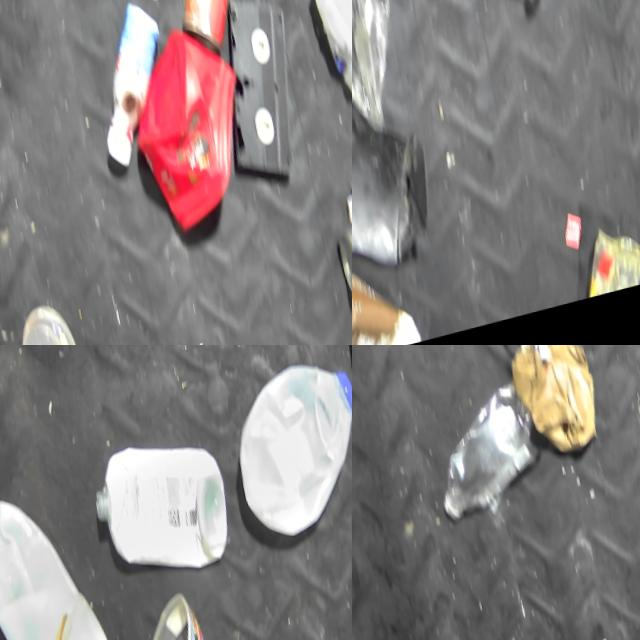can: (352, 113, 448, 296), (164, 0, 248, 58), (334, 199, 352, 336)
milk_jug: (224, 357, 352, 544), (0, 476, 123, 640), (305, 0, 352, 165)
plastic_bottle: (426, 389, 535, 532)
